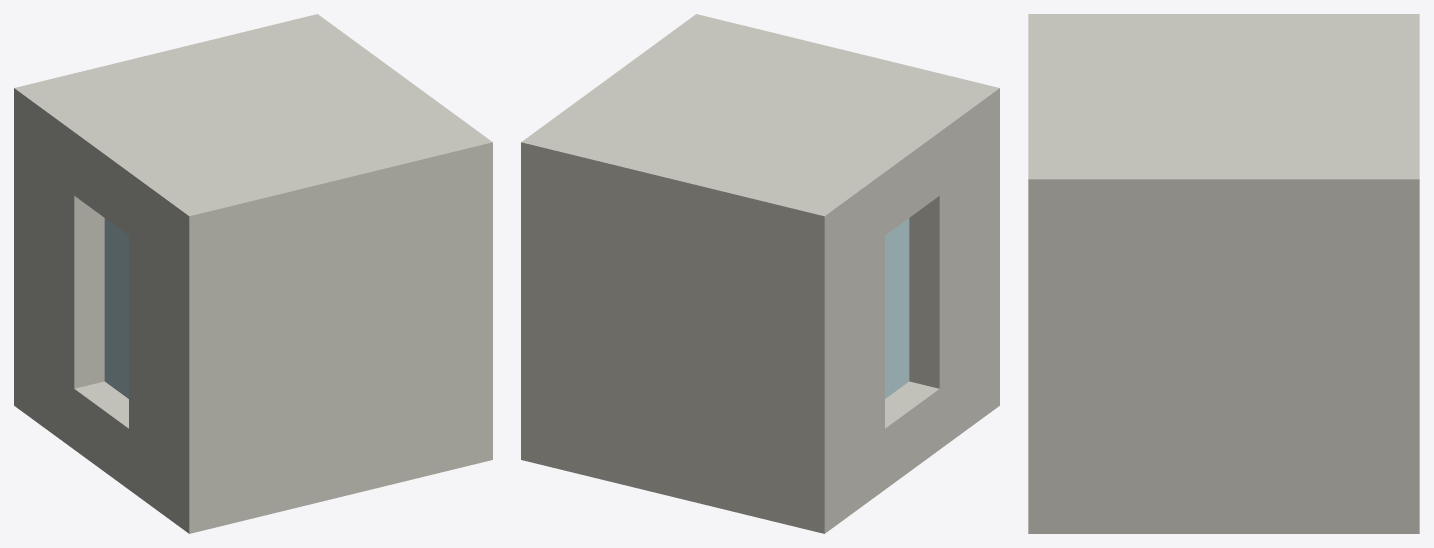
Rendered from Building Story 23.fbx.
The picture shows the model from 3 angles, left to right: view 1: azimuth 30°, elevation 25°; view 2: azimuth 150°, elevation 25°; view 3: azimuth 270°, elevation 25°; orthographic projection. The views are drawn at different scales.
Visible parts, largest first — view 1: Building Story 23; view 2: Building Story 23; view 3: Building Story 23.
Boxes of the visible parts, x1,y1,x2,y2 form: Building Story 23: (14,14,492,533); Building Story 23: (521,14,999,533); Building Story 23: (1028,14,1419,533).
Size of the model in its own units: 1 by 1 by 1.
